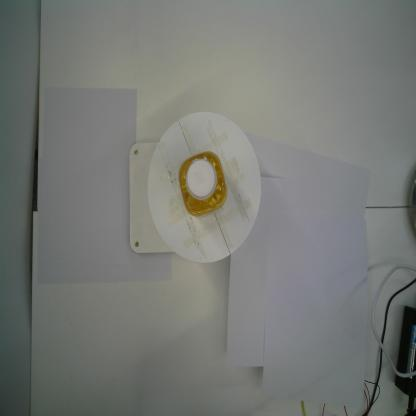Drink: (178, 150, 226, 218)
